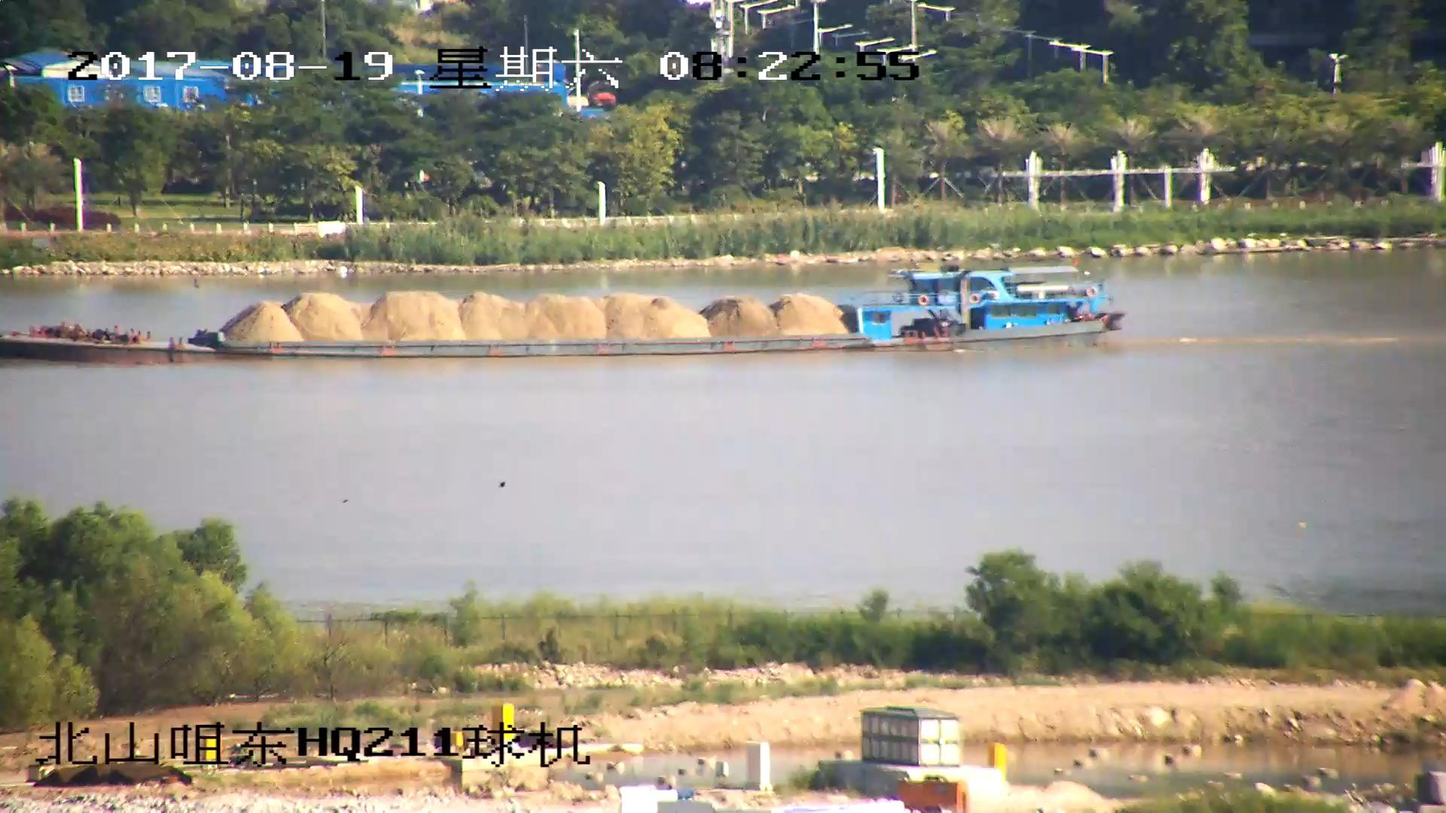ore carrier: (0, 260, 1127, 365)
